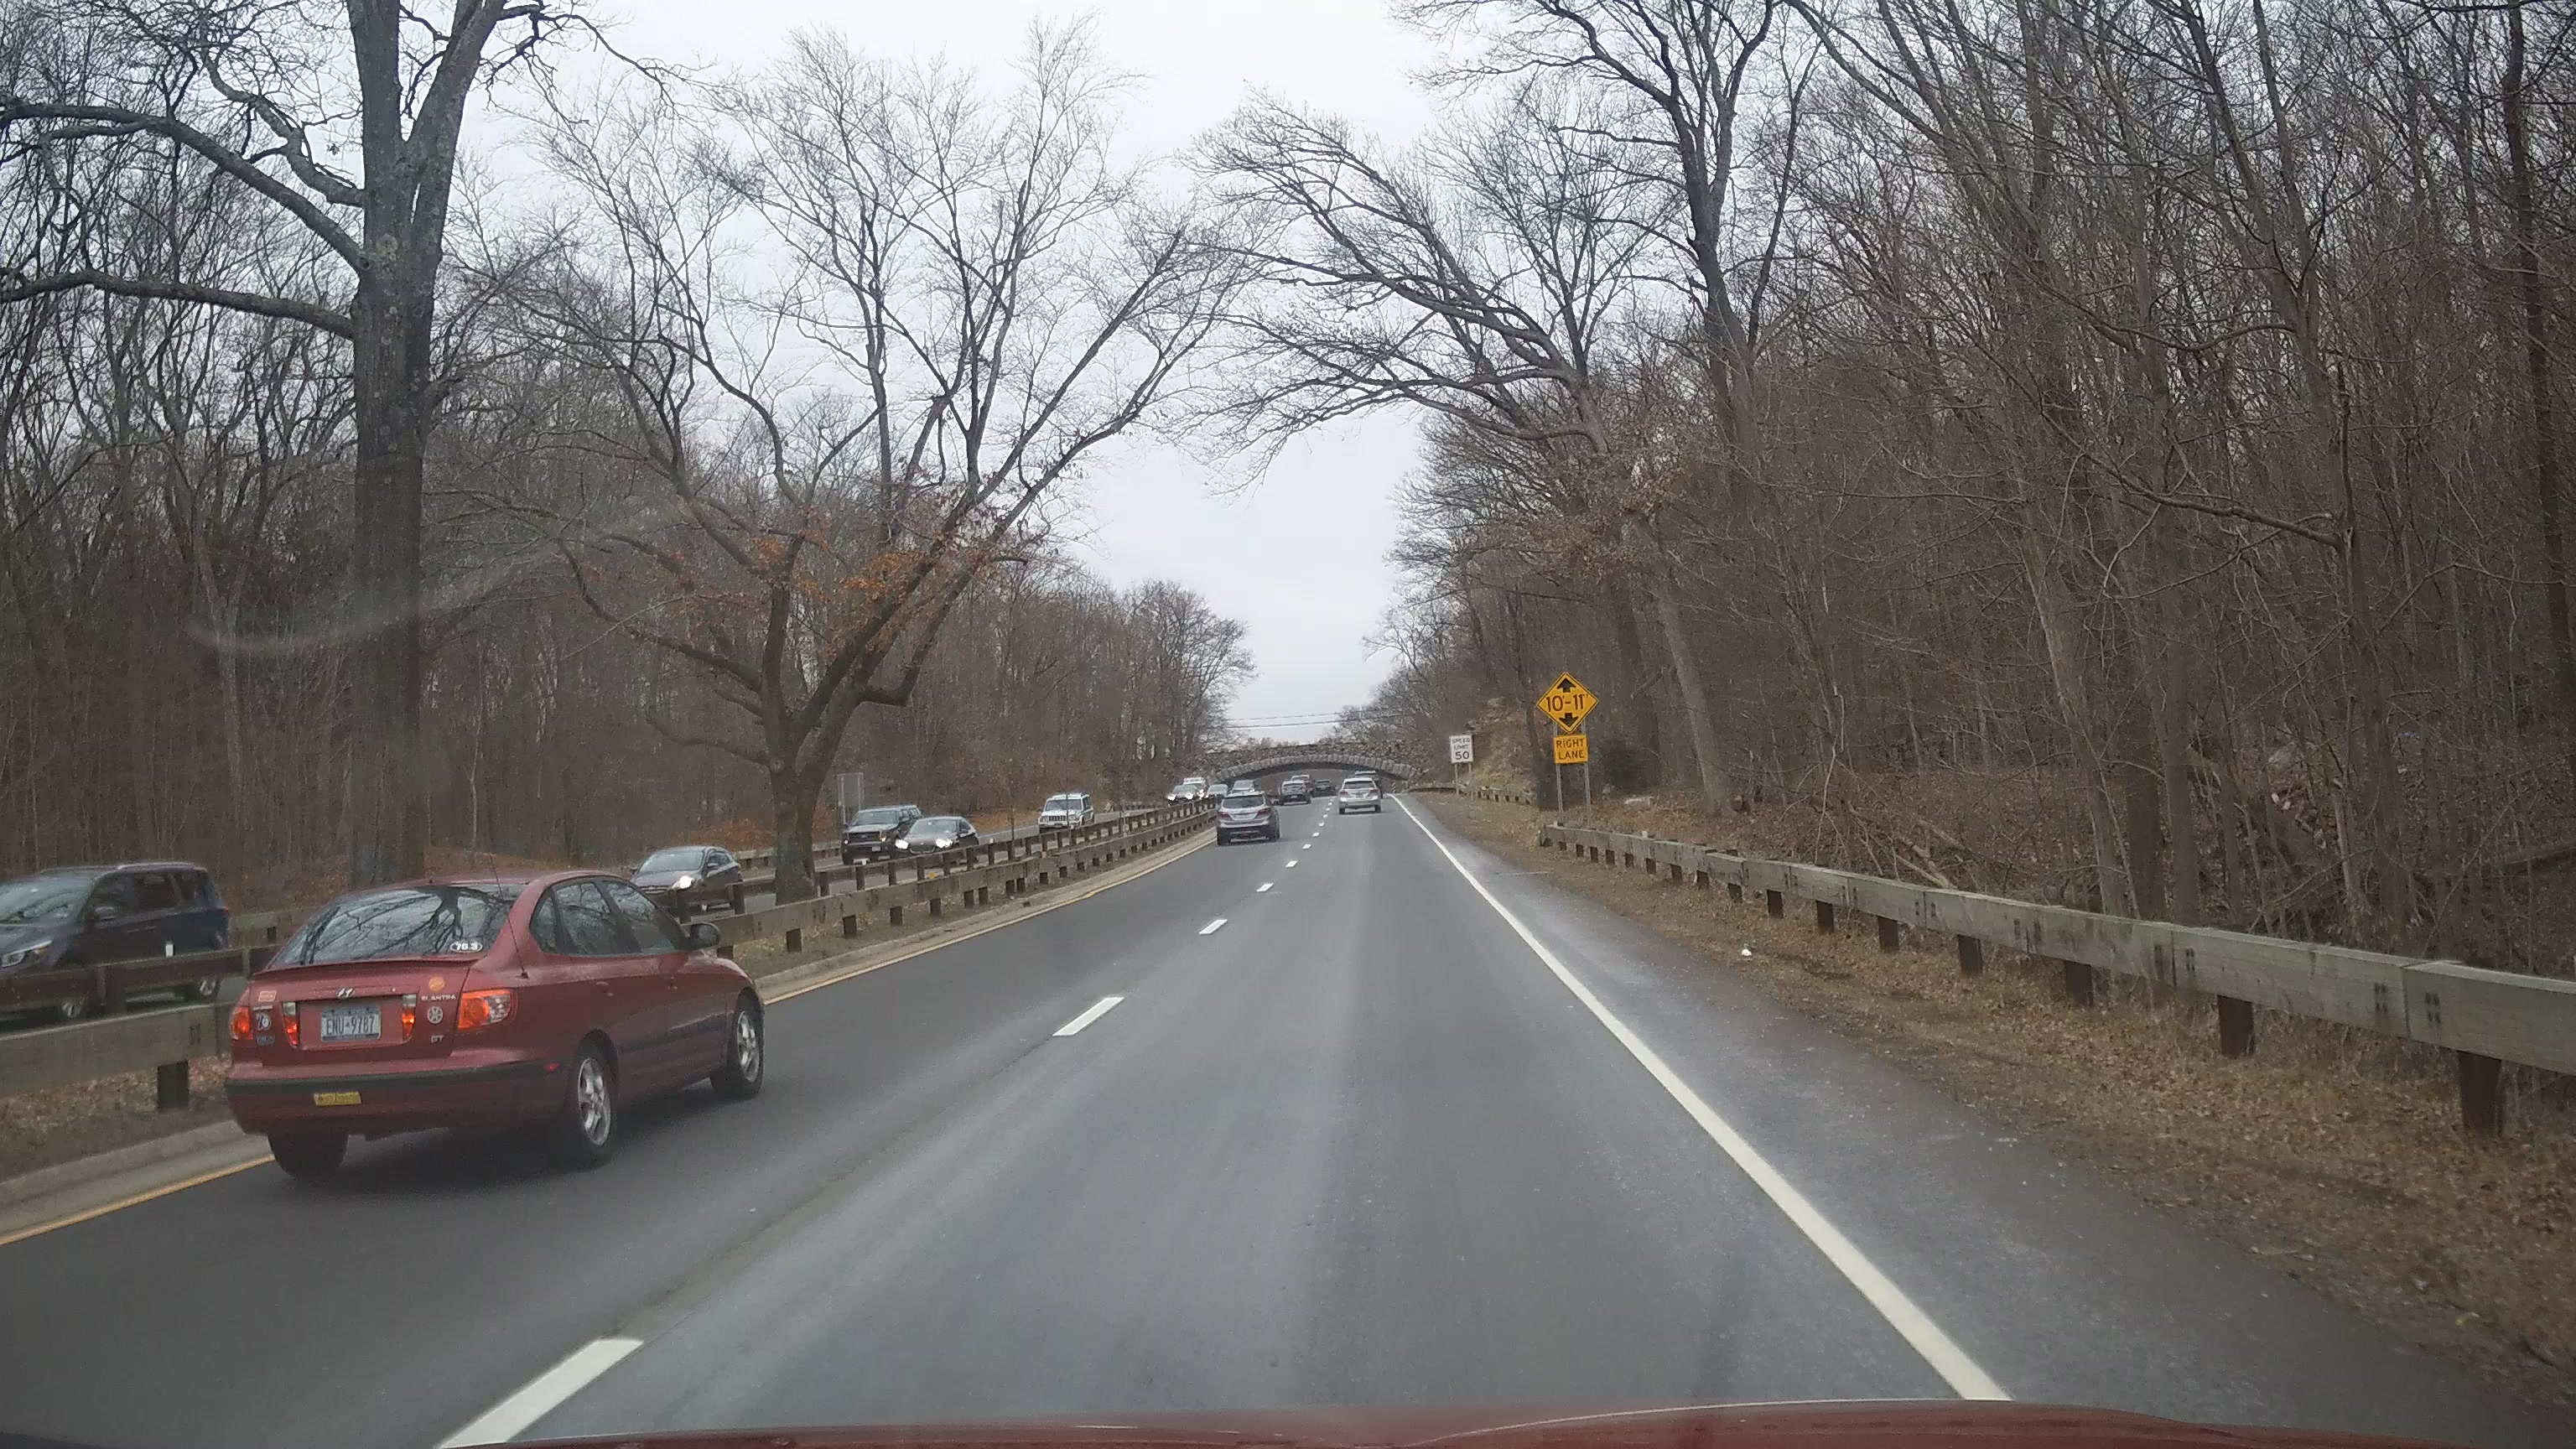low-clearance-sign: (1536, 671, 1599, 734)
